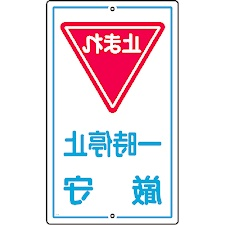Regulatory_sign_triangle: (59, 13, 167, 122)
